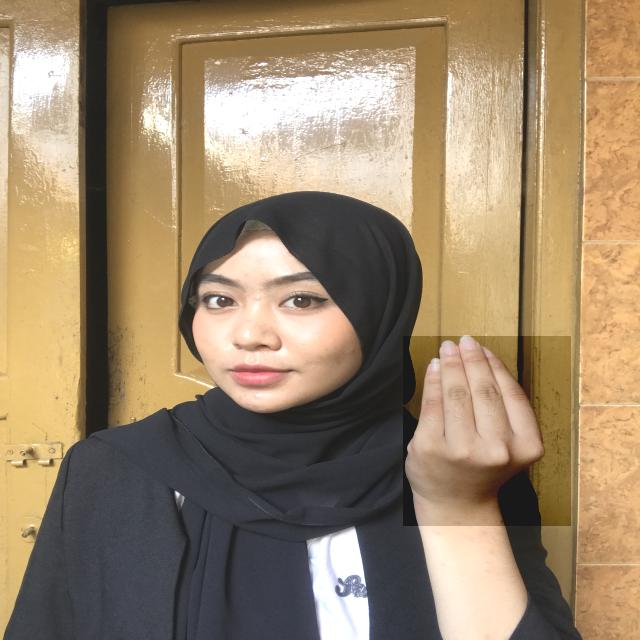berapa: (403, 336, 571, 526)
